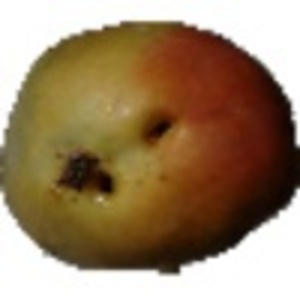mamão: (2, 13, 295, 286)
